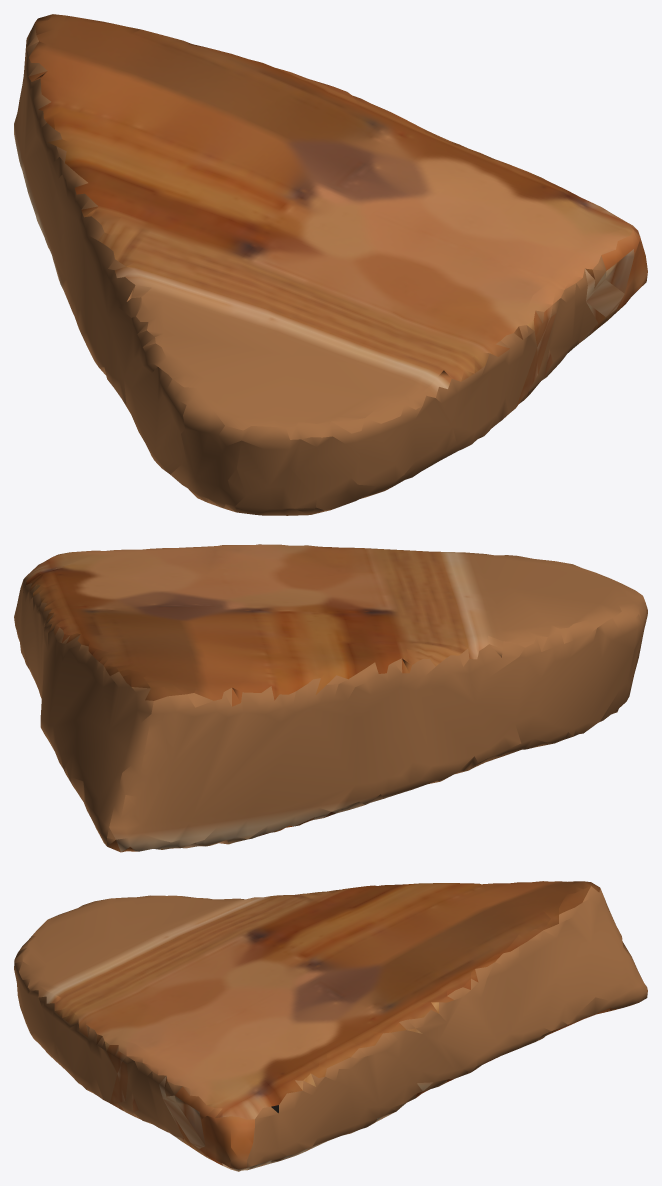
Rendered from Glacier_board05.fbx.
3 renders of one model, top to bottom at view 1: azimuth 30°, elevation 25°; view 2: azimuth 150°, elevation 25°; view 3: azimuth 270°, elevation 25°, orthographic. The views are drawn at different scales.
Visible parts, largest first — view 1: material_0; view 2: material_0; view 3: material_0.
Part boxes in pixels (x1,y1,x2,y2): material_0: (14,14,647,515); material_0: (14,544,647,852); material_0: (14,881,647,1171).
Bounding box in the file's own units: 0.2151 × 0.0814 × 0.2738.
